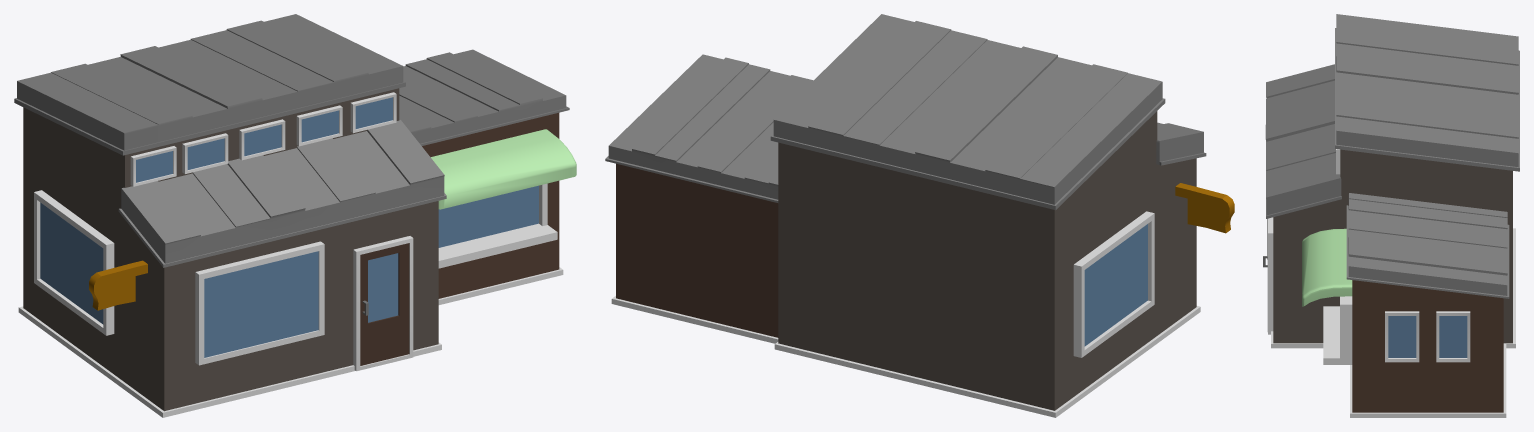
File: coffeshop_new_cut.fbx
The picture shows the model from 3 angles, left to right: view 1: azimuth 30°, elevation 25°; view 2: azimuth 150°, elevation 25°; view 3: azimuth 270°, elevation 25°; orthographic projection. The views are drawn at different scales.
Parts seen in each view (by area): view 1: roof, main_building1, glass3, windows_and_doorframe1, awning1, side_building1, door1, building_trim1, weird_ass_sign; view 2: main_building1, roof, side_building1, glass3, building_trim1, windows_and_doorframe1, weird_ass_sign; view 3: roof, side_building1, main_building1, windows_and_doorframe1, awning1, glass3, building_trim1.
Boxes of the visible parts, box(x1,y1,x2,y2) form: roof: box(14, 14, 569, 267); main_building1: box(23, 88, 438, 411); glass3: box(40, 97, 538, 357); windows_and_doorframe1: box(34, 92, 557, 371); awning1: box(431, 129, 576, 209); side_building1: box(422, 112, 559, 298); door1: box(360, 243, 409, 365); building_trim1: box(18, 267, 563, 417); weird_ass_sign: box(89, 260, 147, 310); main_building1: box(778, 111, 1196, 410); roof: box(605, 14, 1206, 210); side_building1: box(616, 163, 778, 337); glass3: box(1084, 224, 1147, 346); building_trim1: box(611, 296, 1200, 417); windows_and_doorframe1: box(1073, 211, 1154, 357); weird_ass_sign: box(1175, 183, 1234, 233); roof: box(1265, 14, 1519, 298); side_building1: box(1352, 280, 1503, 412); main_building1: box(1273, 149, 1512, 343); windows_and_doorframe1: box(1267, 149, 1470, 364); awning1: box(1302, 228, 1352, 306); glass3: box(1388, 316, 1467, 357); building_trim1: box(1271, 228, 1515, 417).
Size of the model in its own units: 26.73 by 13.12 by 13.91.
